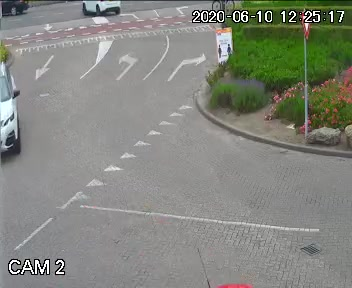car: (0, 56, 28, 158), (67, 0, 120, 17)
